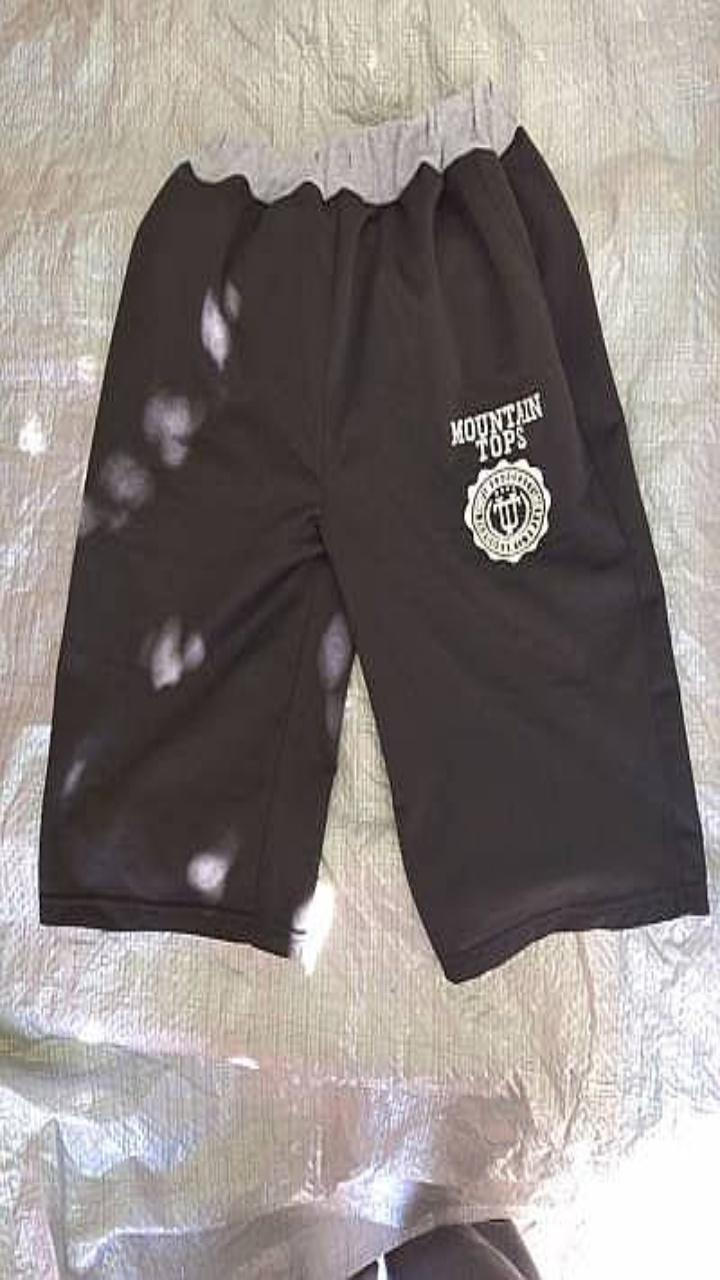Shorts: (39, 82, 707, 981)
